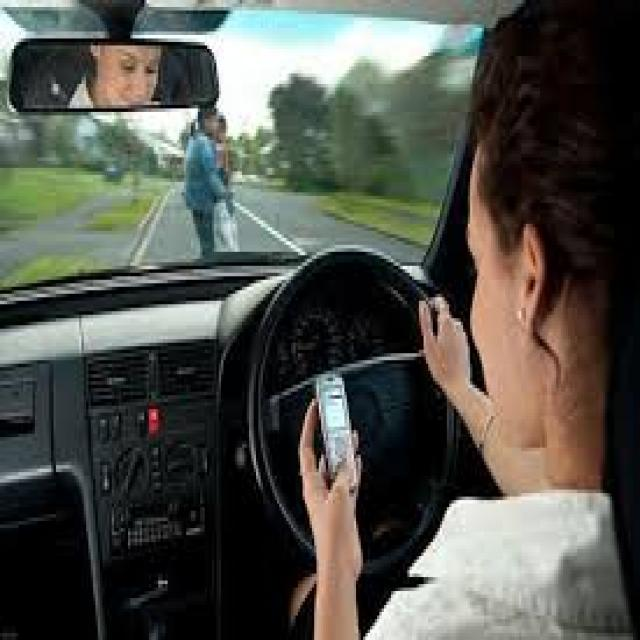Cellphone_texting: (291, 360, 379, 591)
